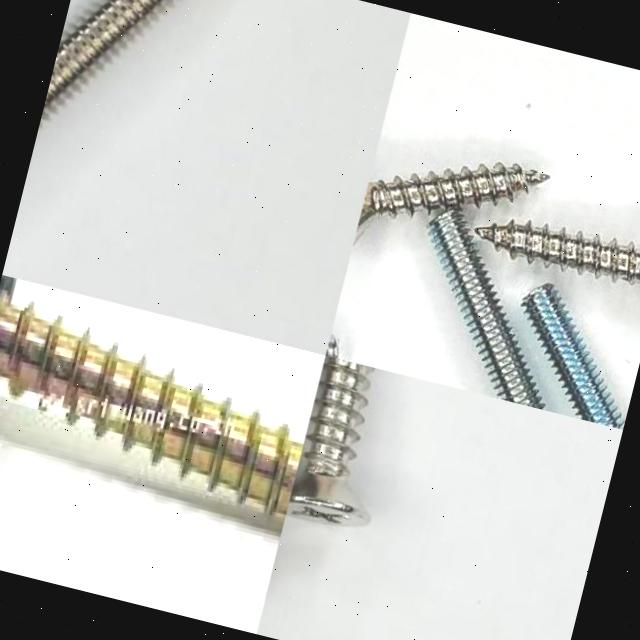Screw: (0, 275, 305, 524), (428, 210, 546, 410), (354, 162, 549, 239), (286, 356, 372, 526), (523, 286, 625, 429), (43, 0, 164, 110), (474, 221, 640, 283)
